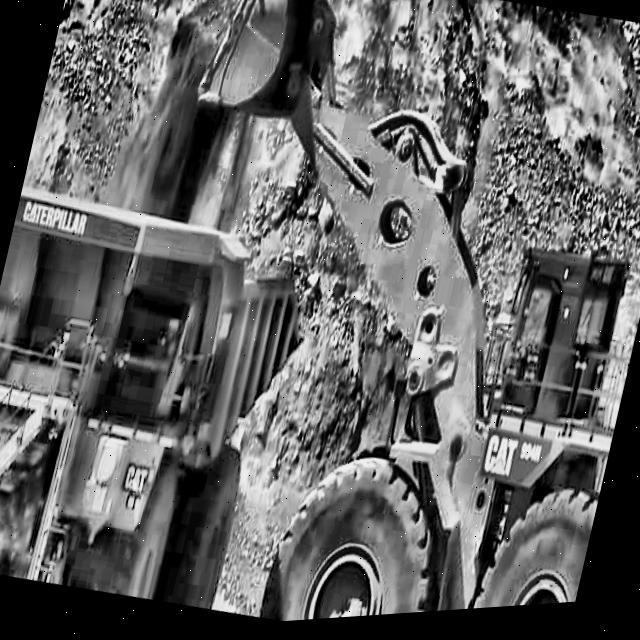buldozerpayloadergrader: (86, 0, 640, 635)
dump_truck: (0, 142, 330, 629)
